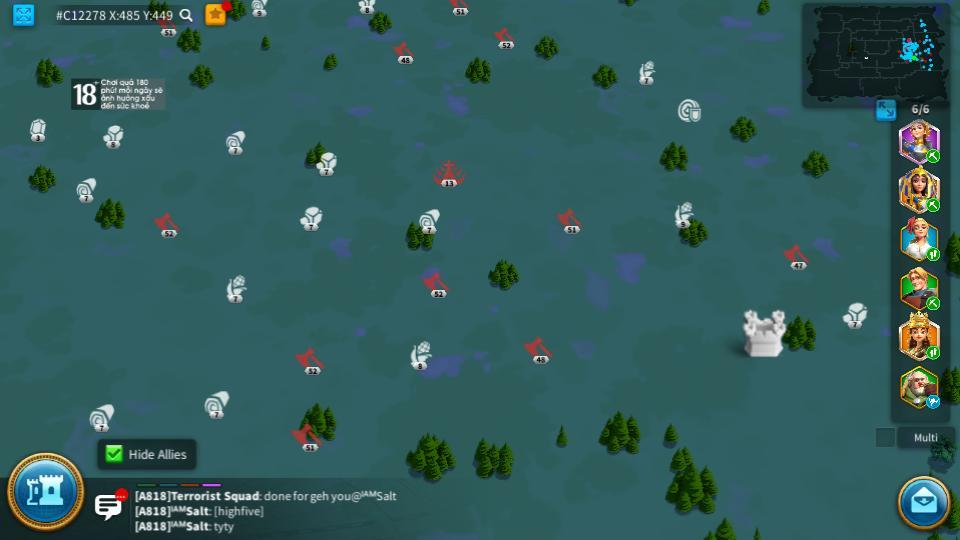gem-z-out: (27, 118, 46, 141), (105, 125, 122, 146)
march_idle: (926, 396, 942, 408)
march_marching: (925, 197, 941, 212), (925, 150, 942, 162), (925, 347, 941, 359), (925, 297, 942, 308)
